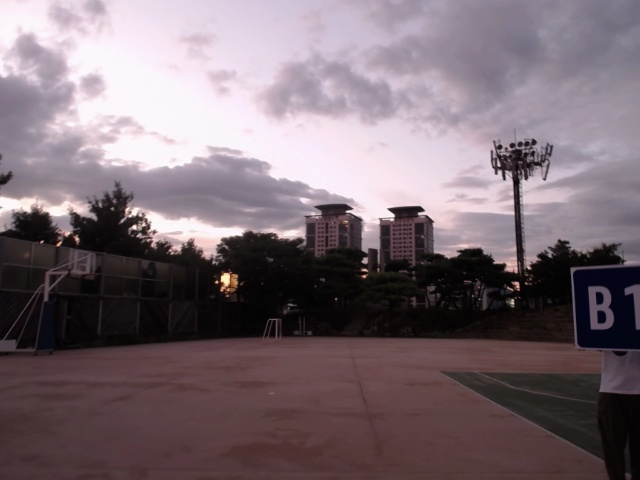delivery_b1: (572, 265, 639, 350)
